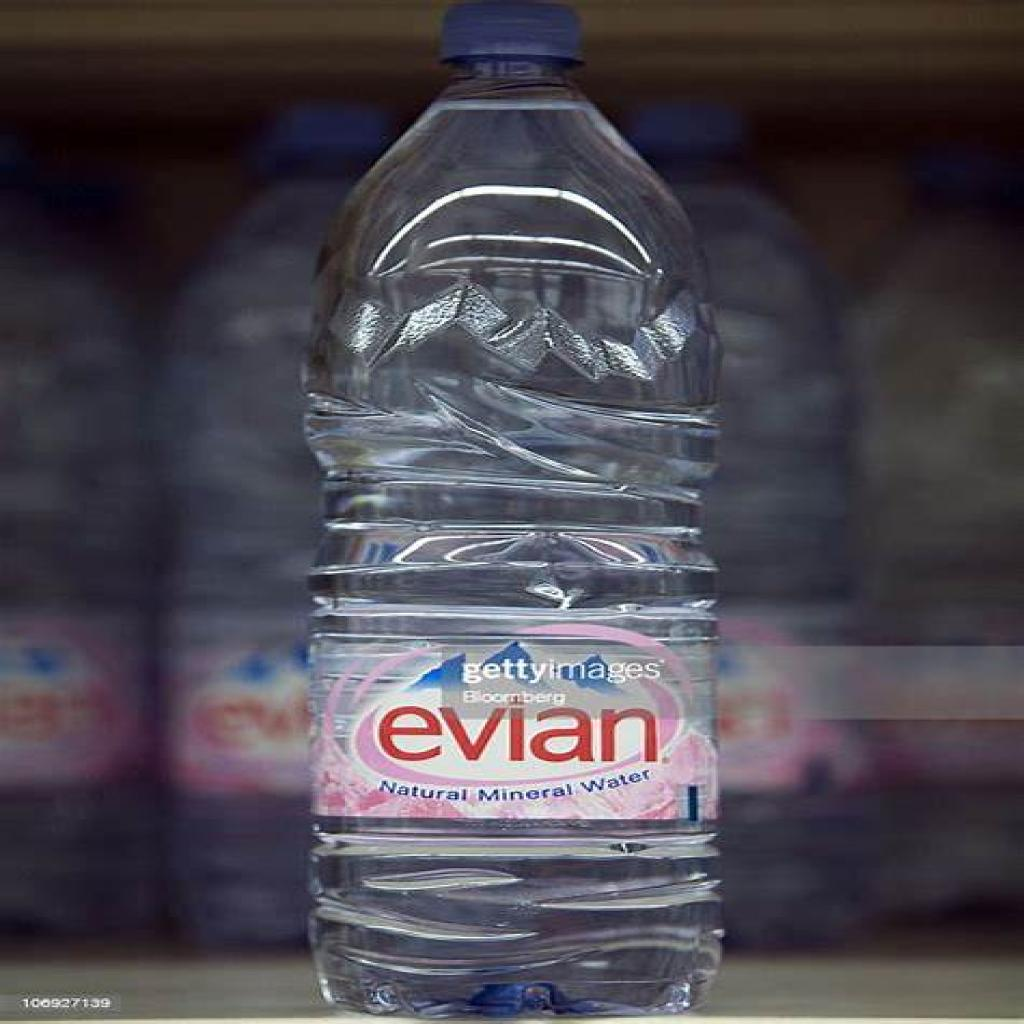plastic: (265, 8, 742, 1015)
